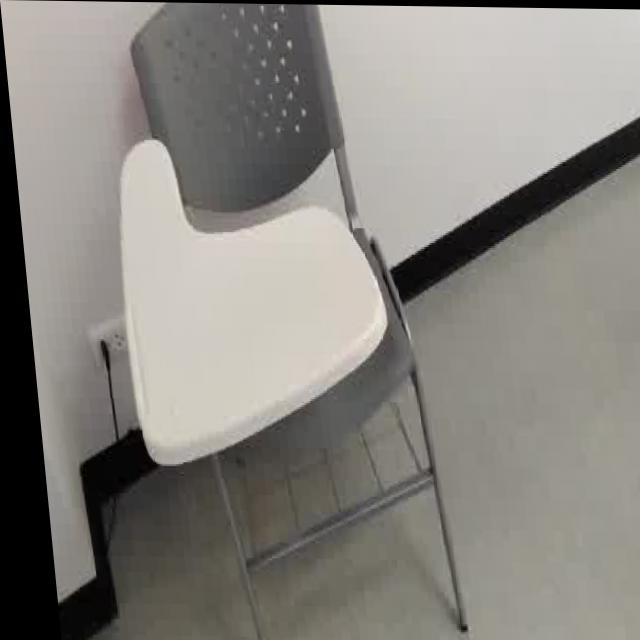chair: (78, 1, 475, 640)
